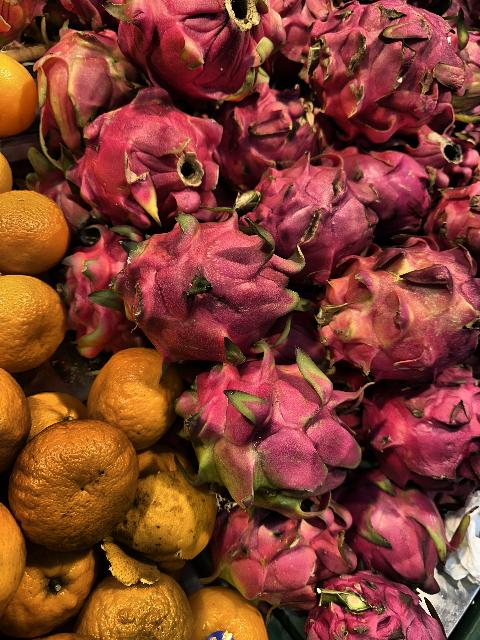buah-naga-belum-matang: (180, 354, 372, 516), (326, 248, 480, 369), (212, 488, 358, 602), (27, 28, 149, 140)
buah-naga-matang: (113, 215, 286, 361), (324, 0, 464, 134), (106, 0, 289, 94), (72, 107, 226, 217), (358, 368, 480, 502), (336, 466, 453, 594), (235, 159, 375, 263), (296, 570, 452, 640), (217, 88, 325, 174)
